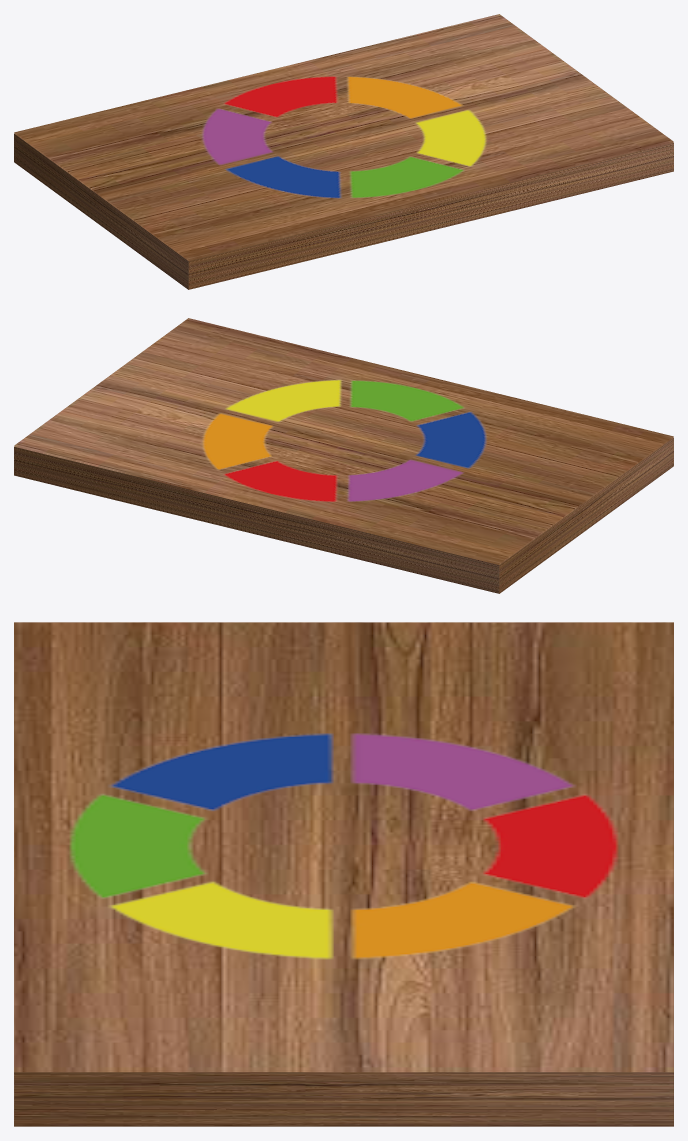
Rendered from desk2.fbx.
3 views of the same model, one above another, from view 1: azimuth 30°, elevation 25°; view 2: azimuth 150°, elevation 25°; view 3: azimuth 270°, elevation 25° (orthographic). The views are drawn at different scales.
Visible parts, largest first — view 1: Plane001, Box001; view 2: Plane001, Box001; view 3: Plane001, Box001.
Part boxes in pixels (x1,y1,x2,y2): Plane001: [14, 14, 673, 260]; Box001: [14, 133, 673, 289]; Plane001: [14, 318, 673, 564]; Box001: [14, 437, 673, 593]; Plane001: [14, 622, 673, 1070]; Box001: [14, 1070, 673, 1126].
Size of the model in its own units: 53 by 3.1 by 33.
2 materials, 2 textured.
